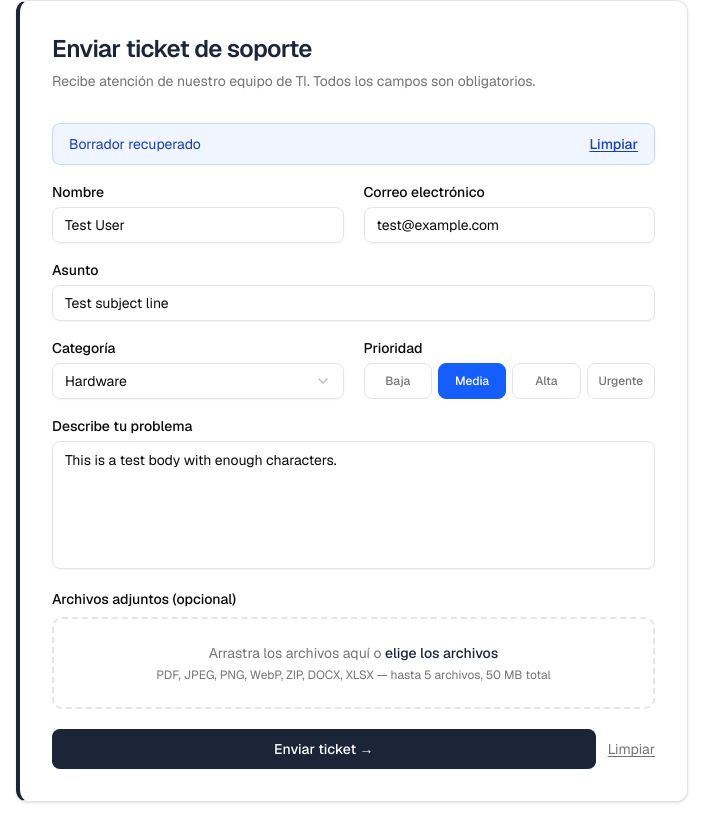
Test: Cancel clear › returns to 'Limpiar' label without changing form state
The image size is (705, 826).
Expected: the text "Borrador recuperado" is shown, [69,134,201,154]
Click the 2nd button "Limpiar".
click(631, 749)  # box [608,739,655,759]
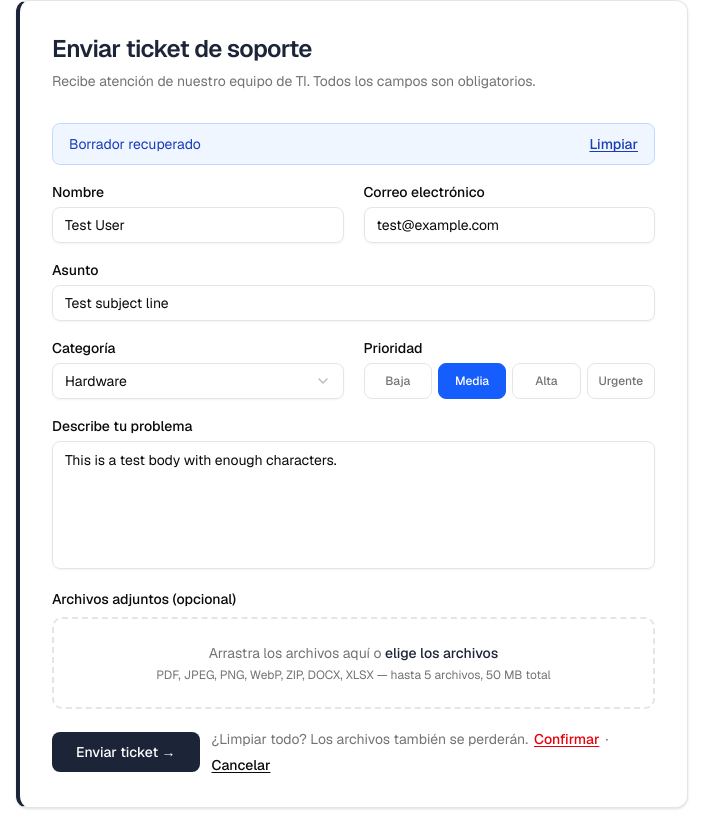
Now the button "Confirmar" is shown, box [534,729,599,749]
Note: Click cancel
Click the button "Cancelar".
click(241, 765)  # box [212,755,270,775]
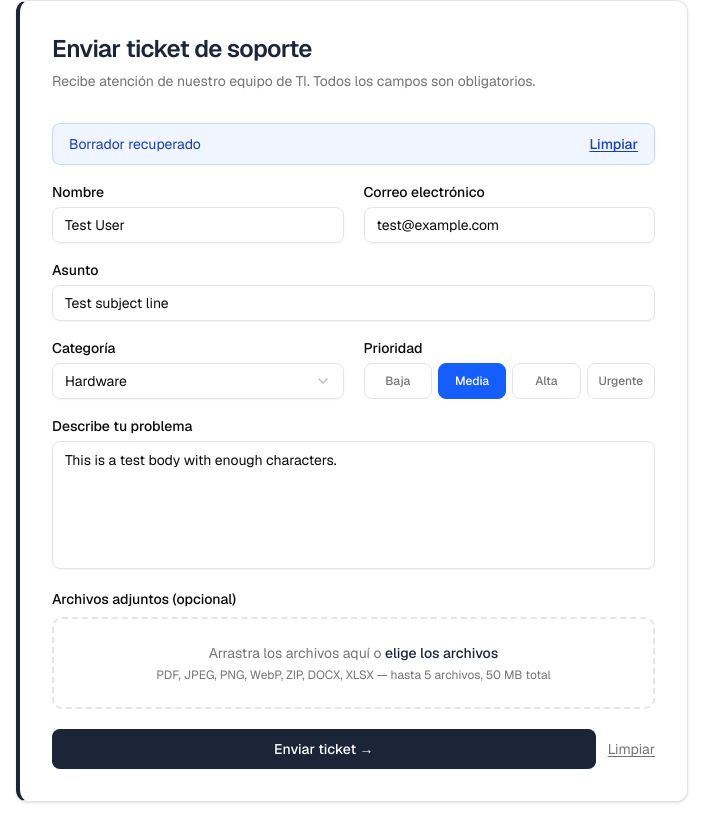
Expected: the button "Limpiar" in the row of "Borrador recuperado" is shown, [589,134,638,154]
Now the text "Limpiar todo" is gone
